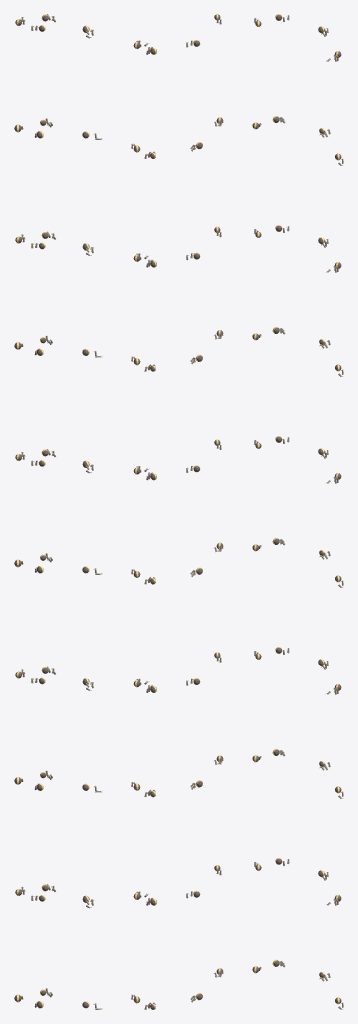
File: Circle4Crowd2.obj
3 renders of one model, left to right at view 1: azimuth 30°, elevation 25°; view 2: azimuth 150°, elevation 25°; view 3: azimuth 330°, elevation 25°, orthographic. The views are drawn at different scales.
Visible parts, largest first — view 1: Circle4Crowd2; view 2: Circle4Crowd2; view 3: Circle4Crowd2.
Part boxes in pixels (box(x1,y1,x2,y2)): Circle4Crowd2: box(14, 14, 102, 1009); Circle4Crowd2: box(131, 14, 223, 1009); Circle4Crowd2: box(252, 14, 343, 1009).
Bounding box in the file's own units: 27.4 × 326 × 21.63.
1 material, 1 textured.
